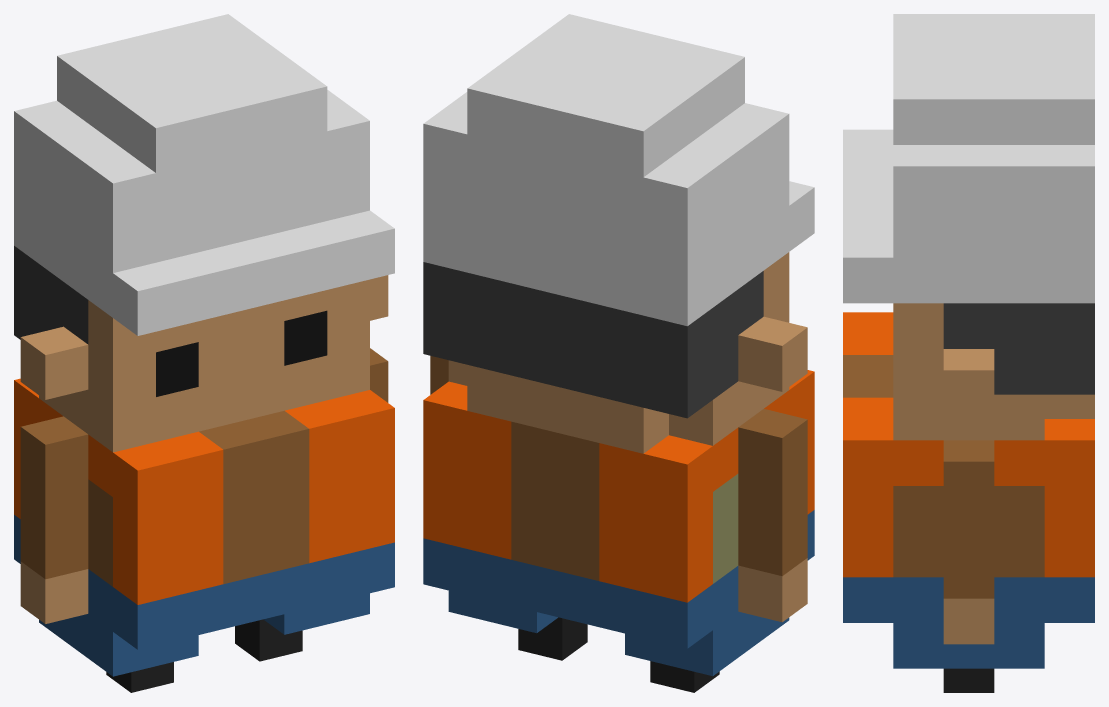
Rendered from chr_worker3.obj.
3 renders of one model, left to right at view 1: azimuth 30°, elevation 25°; view 2: azimuth 150°, elevation 25°; view 3: azimuth 270°, elevation 25°, orthographic. The views are drawn at different scales.
Size of the model in its own units: 0.8 by 1.3 by 0.5.
1 material, 1 textured.
